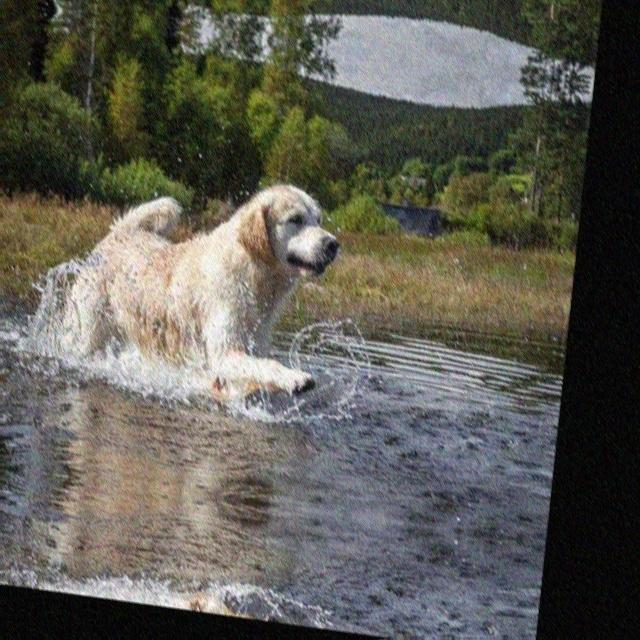dog: (68, 142, 362, 426), (46, 564, 318, 628)
